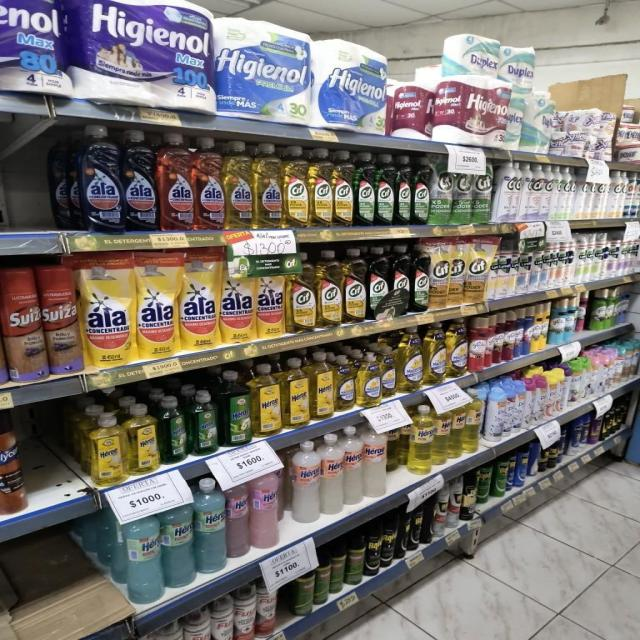ala_conc_amarillo: (225, 139, 253, 229), (254, 142, 282, 228)
ala_conc_azul: (80, 125, 121, 232), (124, 127, 158, 232), (52, 128, 80, 232)
ala_conc_rojo: (158, 132, 194, 232), (194, 136, 223, 231)
ala_sachet_amarillo: (82, 250, 135, 368), (136, 250, 178, 359), (179, 248, 219, 350), (221, 249, 255, 343), (256, 255, 286, 339)
cif_conc_bot_amarilla: (288, 250, 315, 333), (283, 144, 308, 228), (317, 249, 342, 328), (343, 247, 367, 324), (309, 148, 332, 228), (332, 149, 353, 227)
cif_conc_botella_verde: (368, 246, 390, 322), (354, 151, 374, 227), (390, 245, 410, 318), (376, 153, 394, 226), (396, 155, 412, 226), (412, 243, 428, 313), (413, 156, 429, 225)
cif_conc_sachet_amarillo: (466, 236, 486, 306), (430, 238, 448, 310), (448, 236, 464, 308)
cif_conc_sachet_verde: (430, 156, 452, 225), (472, 161, 492, 224), (453, 162, 472, 224)
heroe: (125, 515, 162, 604), (195, 478, 226, 575), (288, 440, 320, 524), (163, 504, 194, 588), (250, 470, 282, 551), (363, 422, 388, 500), (320, 432, 343, 516), (408, 404, 434, 474), (344, 426, 363, 506)
magistral_con_amarillo: (398, 326, 422, 392), (424, 321, 446, 385), (446, 317, 468, 378), (357, 350, 380, 408), (334, 353, 355, 411), (381, 343, 396, 399)
